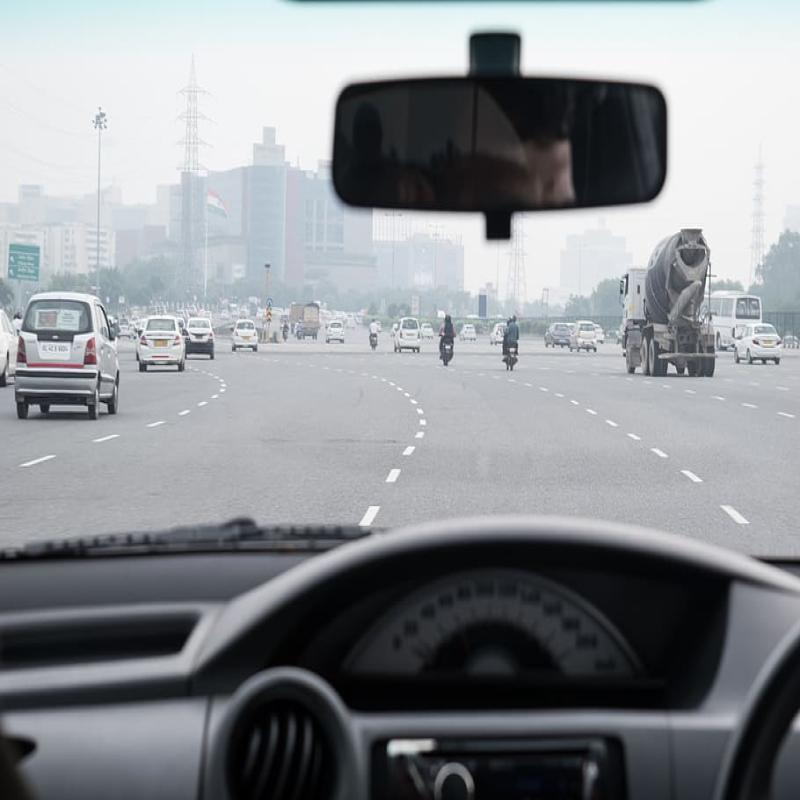car: (5, 285, 126, 428), (730, 315, 786, 374), (140, 309, 187, 379), (182, 308, 218, 360), (226, 308, 264, 354), (568, 316, 608, 350), (540, 321, 577, 356), (396, 316, 421, 354)
